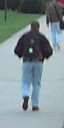person: (18, 20, 47, 111)
